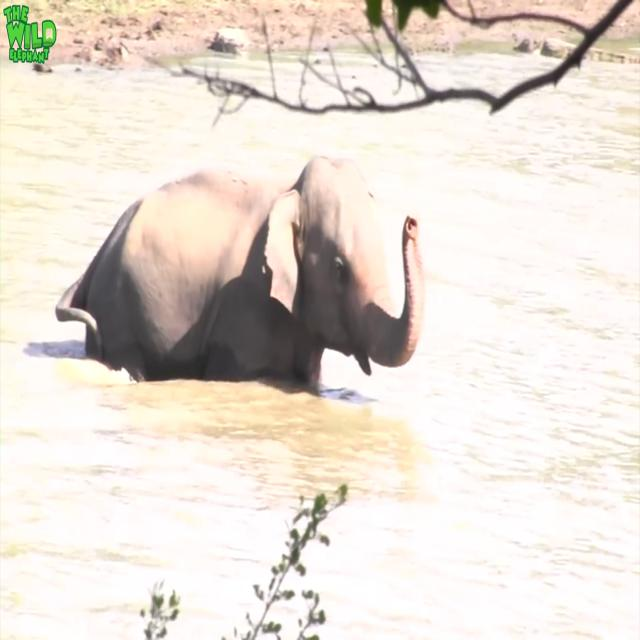Elephant: (55, 153, 425, 389)
